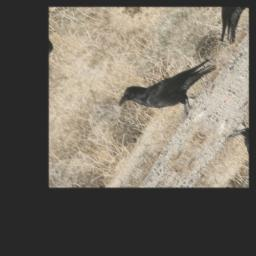Crow: (115, 35, 223, 135)
